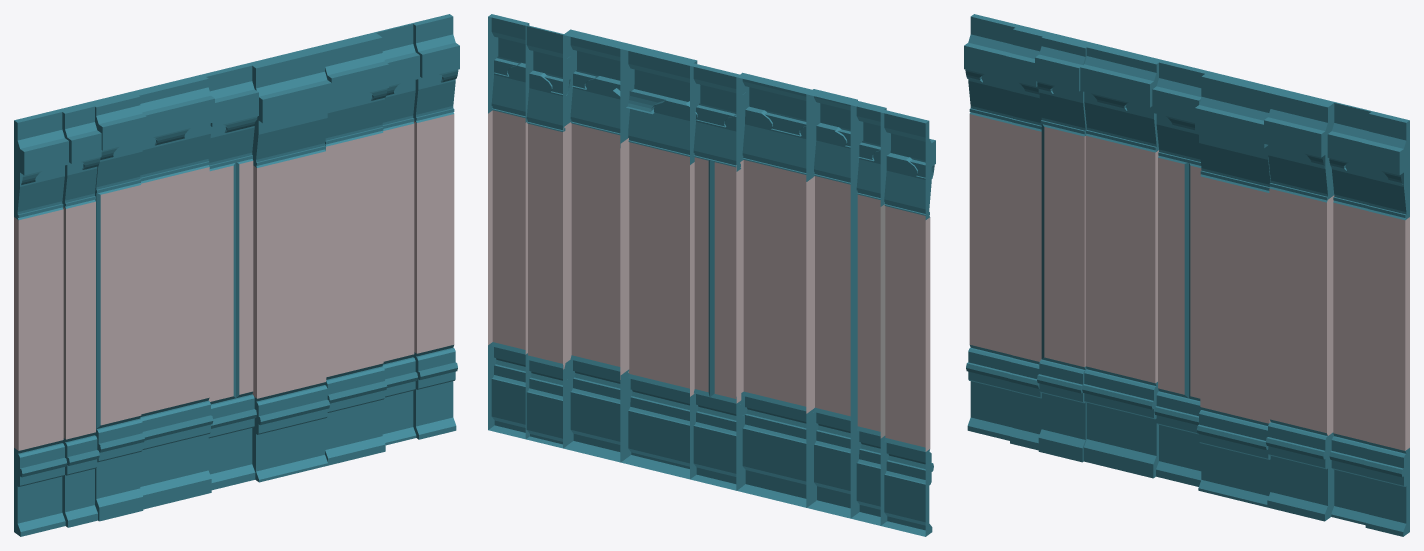
File: Wall_Anxi_D.fbx
The picture shows the model from 3 angles, left to right: view 1: azimuth 30°, elevation 25°; view 2: azimuth 150°, elevation 25°; view 3: azimuth 330°, elevation 25°; orthographic projection.
Parts seen in each view (by area): view 1: Wall_Mirror_Str11; view 2: Wall_Mirror_Str11; view 3: Wall_Mirror_Str11.
Boxes of the visible parts, box(x1,y1,x2,y2) form: Wall_Mirror_Str11: box(14, 14, 459, 536); Wall_Mirror_Str11: box(488, 14, 935, 536); Wall_Mirror_Str11: box(964, 14, 1409, 536).
Bounding box in the file's own units: 992 × 896 × 54.91.
